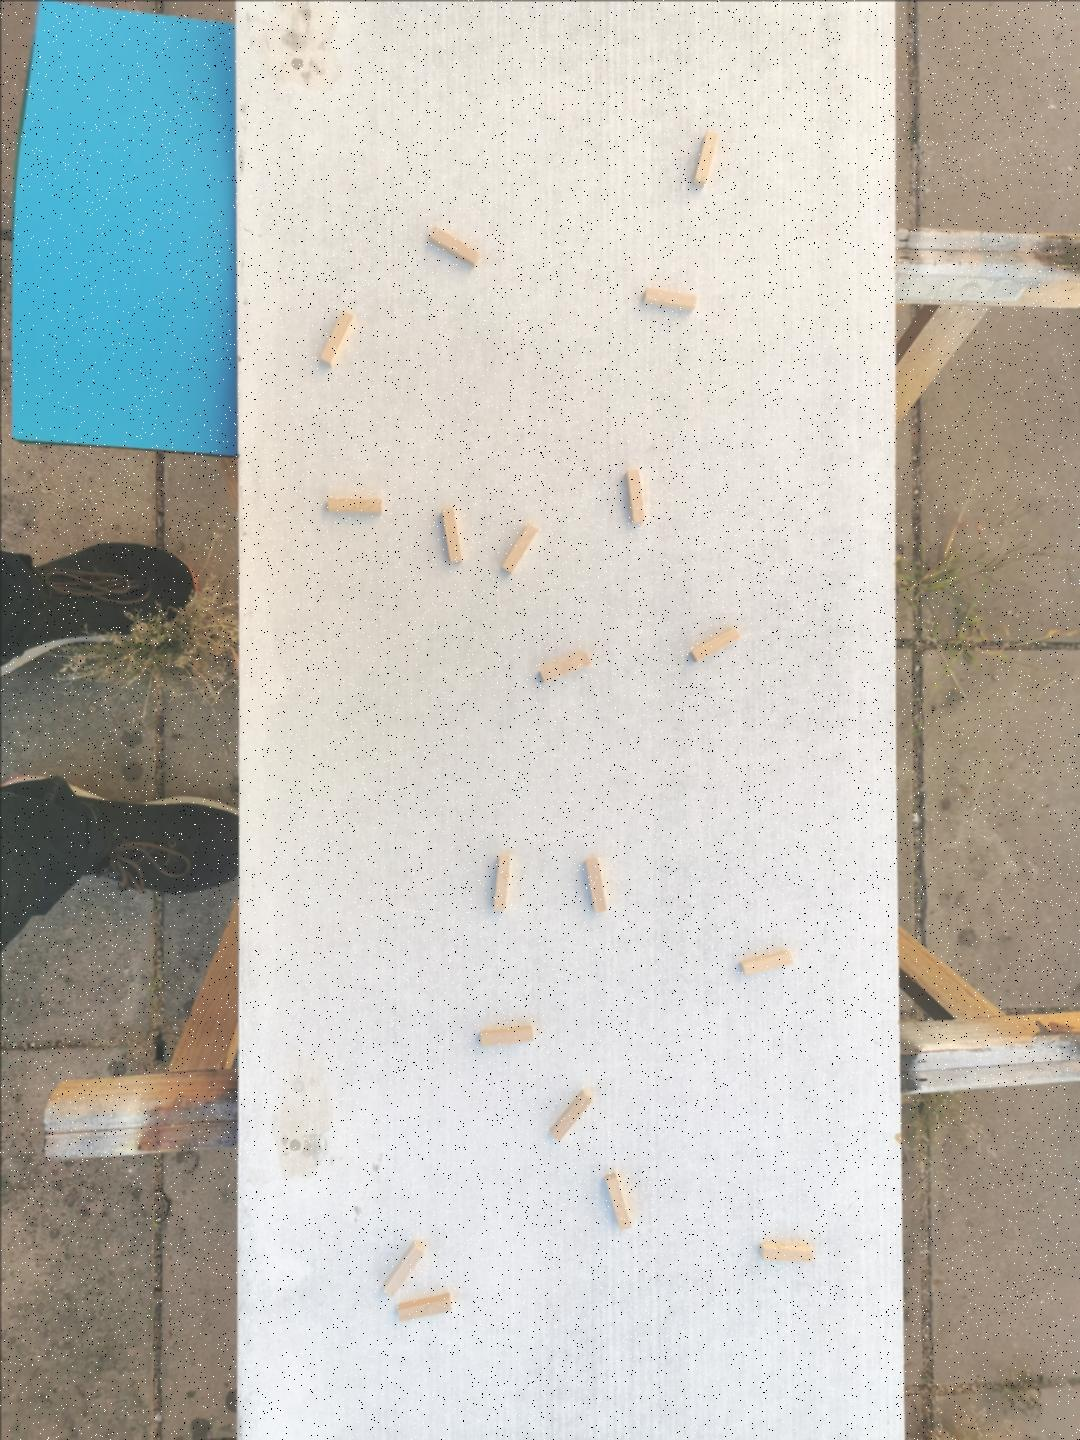jenga: (382, 1240, 424, 1296), (548, 1089, 591, 1140), (428, 225, 481, 264), (318, 310, 354, 365), (500, 523, 538, 571), (689, 627, 740, 661), (538, 650, 591, 680), (397, 1291, 450, 1319), (692, 129, 717, 186), (605, 1172, 630, 1229), (740, 948, 793, 973), (585, 855, 608, 912), (641, 287, 694, 310), (759, 1240, 812, 1263), (441, 506, 462, 562), (624, 467, 644, 523), (478, 1026, 532, 1047), (327, 495, 382, 515), (492, 853, 509, 912)
